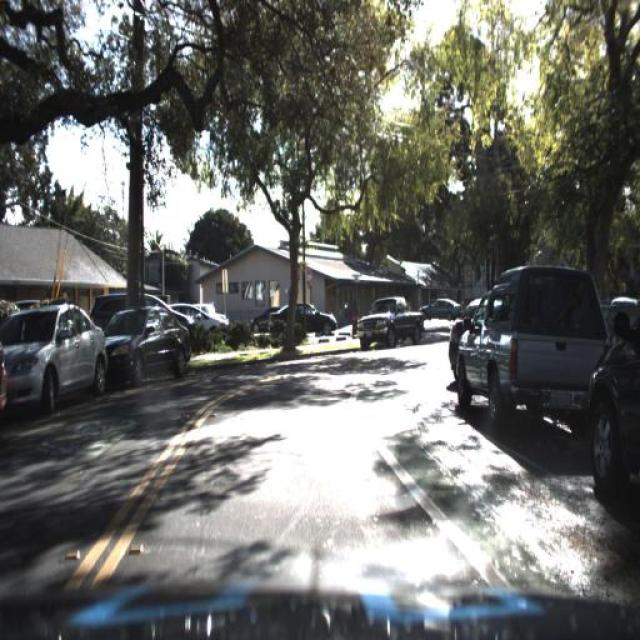car: (453, 262, 612, 448), (1, 299, 111, 400), (104, 304, 194, 390), (355, 296, 427, 348), (270, 299, 334, 341), (173, 303, 231, 347), (443, 301, 471, 388), (420, 280, 464, 330), (194, 306, 230, 355), (247, 301, 285, 347), (416, 297, 463, 323), (248, 306, 284, 335)
